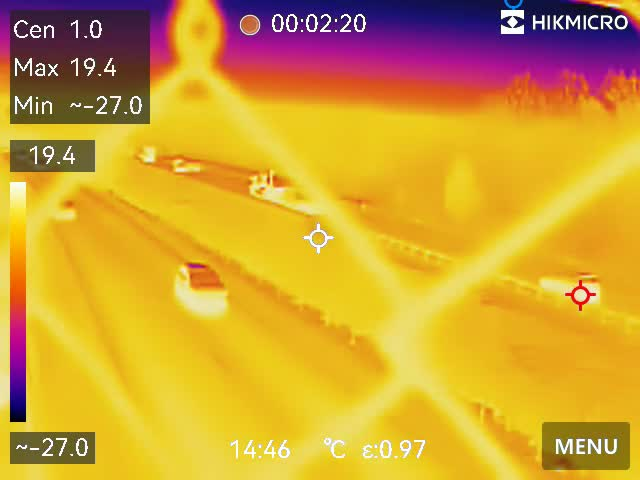heavyTruck: (249, 163, 358, 224)
largeCar: (167, 254, 230, 313)
